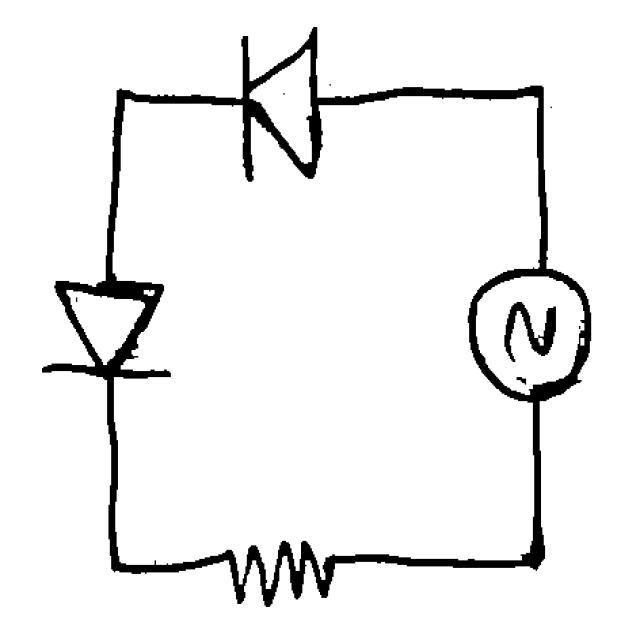ac: (455, 258, 608, 412)
diode: (30, 260, 186, 400), (219, 19, 342, 195)
resistor: (200, 522, 360, 614)
